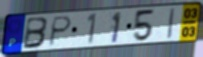1: (110, 10, 123, 44), (86, 12, 98, 46)
5: (131, 8, 159, 43)
B: (22, 16, 51, 51)
I: (166, 7, 177, 40)
P: (47, 15, 74, 48)
